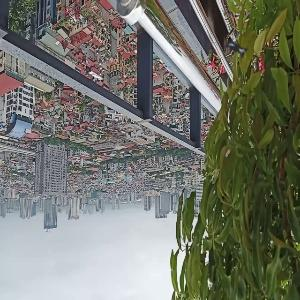drone: (208, 19, 266, 77)
